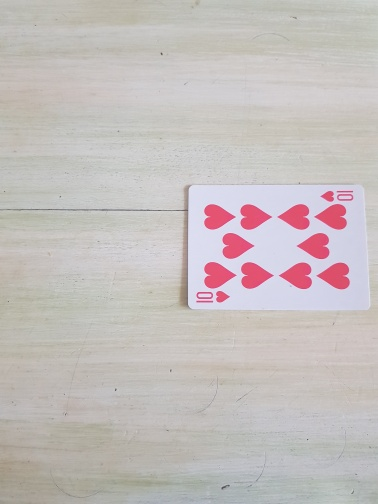ten: (186, 183, 372, 311)
